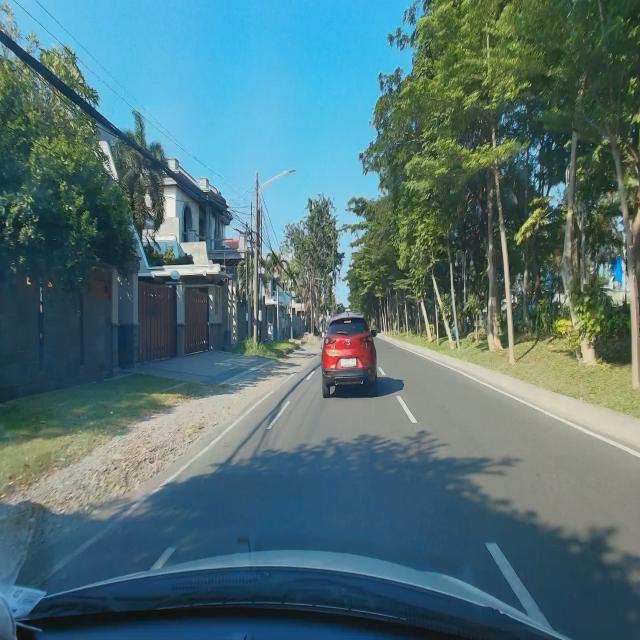car: (320, 311, 378, 400)
license-plate: (340, 357, 357, 368)
